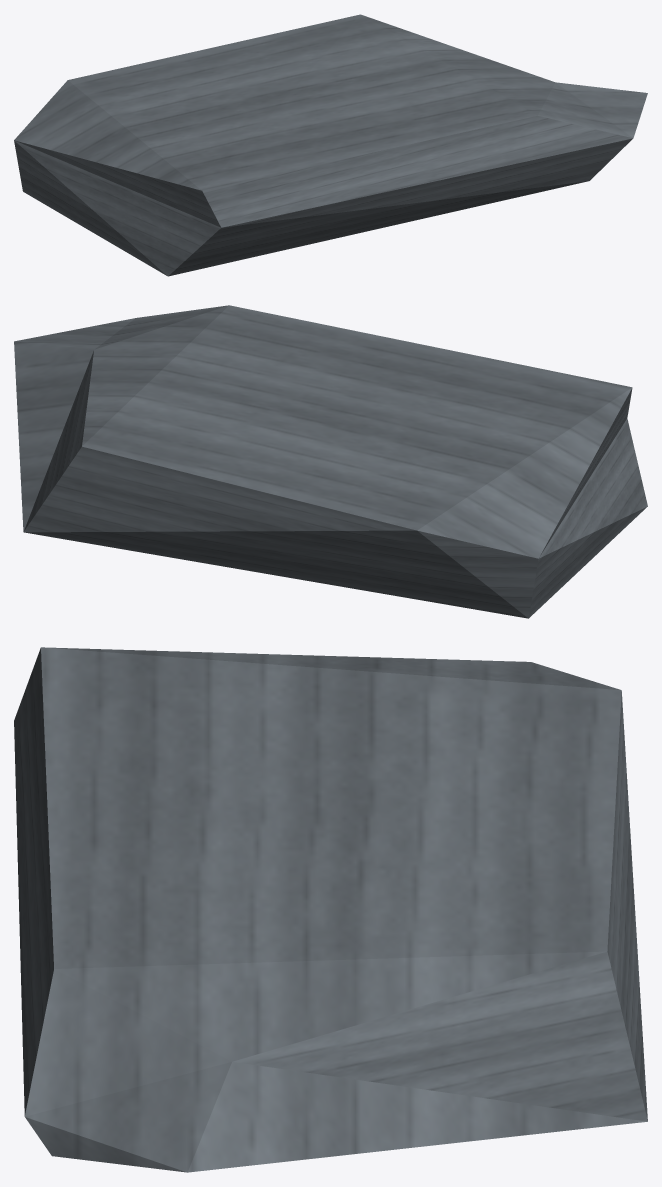
Rendered from outcrop_shale_sheet.glb.
3 renders of one model, top to bottom at view 1: azimuth 30°, elevation 25°; view 2: azimuth 150°, elevation 25°; view 3: azimuth 270°, elevation 25°, orthographic. The views are drawn at different scales.
Visible parts, largest first — view 1: outcrop_shale_sheet; view 2: outcrop_shale_sheet; view 3: outcrop_shale_sheet.
Part boxes in pixels (x1=…): outcrop_shale_sheet: x1=14, y1=14, x2=647, y2=276; outcrop_shale_sheet: x1=14, y1=305, x2=647, y2=618; outcrop_shale_sheet: x1=14, y1=647, x2=647, y2=1172.
Bounding box in the file's own units: 2.32 × 0.36 × 1.29.
Materials: 1 (1 with a texture image).
